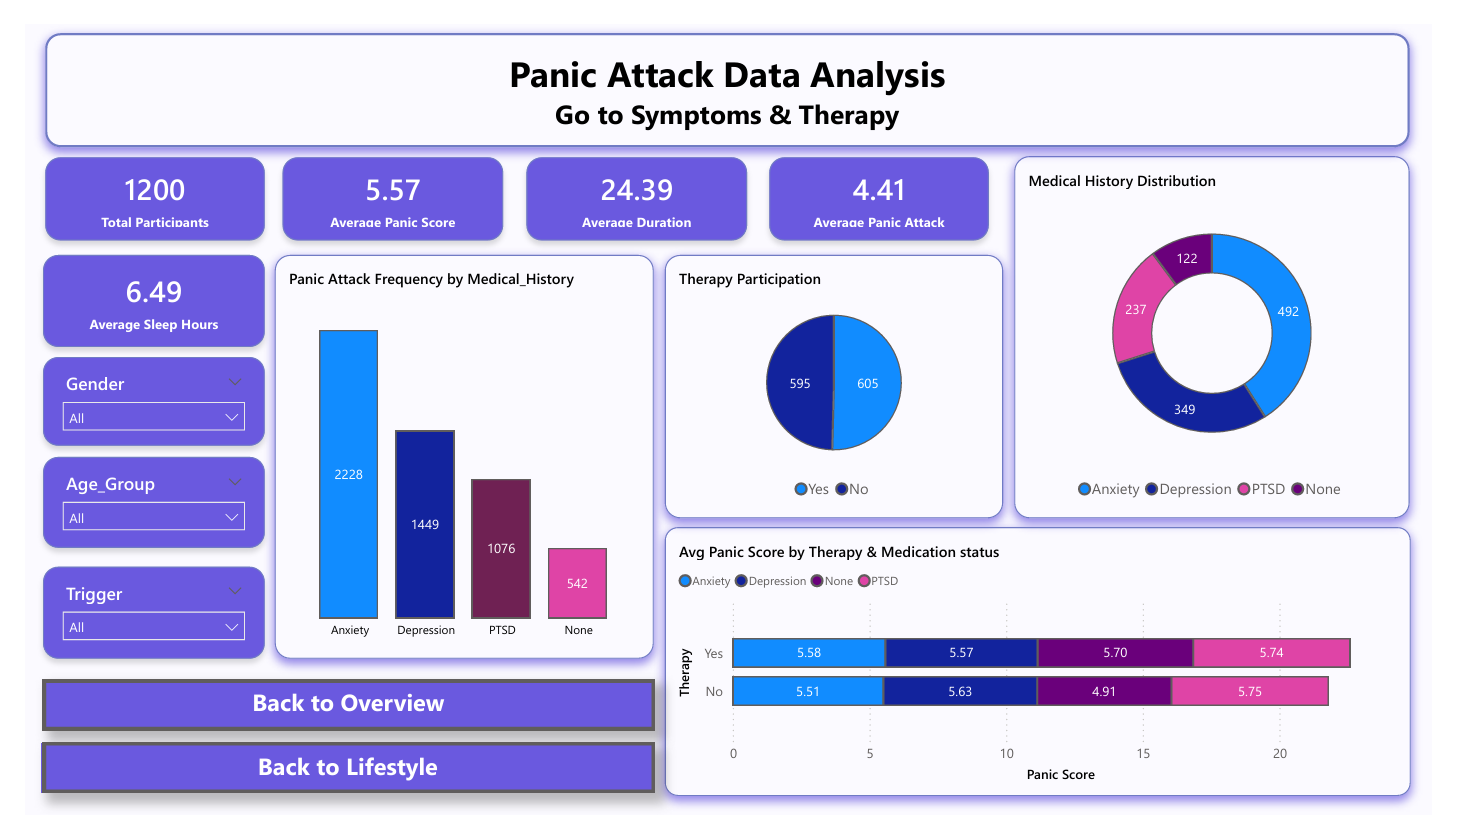

What the dashboard file says about the page in this screenshot:
{"tool":"powerbi","page":{"name":"Symptoms & Therapy","canvas":[1280,720],"ordinal":2},"visuals":[{"type":"card","fields":{"Values":["CountNonNull(panic_attack_dataset.ID)"]},"box":[17.5,120.6,200.4,76.8],"z":0},{"type":"card","fields":{"Values":["Avg(panic_attack_dataset.Panic_Score)"]},"box":[234.4,120.6,200.4,76.8],"z":1000},{"type":"card","fields":{"Values":["Avg(panic_attack_dataset.Duration_Minutes)"]},"box":[456.2,120.6,200.4,76.8],"z":2000},{"type":"pieChart","title":"Therapy Participation","fields":{"Y":["CountNonNull(panic_attack_dataset.ID)"],"Category":["panic_attack_dataset.Therapy"]},"box":[582.2,210,307.8,240],"z":3000},{"type":"clusteredColumnChart","fields":{"Y":["Sum(panic_attack_dataset.Panic_Attack_Frequency)"],"Category":["panic_attack_dataset.Medical_History"]},"box":[226.7,210,345.6,367.8],"z":4000},{"type":"slicer","fields":{"Values":["panic_attack_dataset.Trigger"]},"box":[15.6,494.4,202.2,83.3],"z":5000},{"type":"donutChart","title":"Medical History Distribution","fields":{"Y":["CountNonNull(panic_attack_dataset.ID)"],"Category":["panic_attack_dataset.Medical_History"]},"box":[900,120,360,330],"z":6000},{"type":"slicer","title":"Gender","fields":{"Values":["panic_attack_dataset.Gender"]},"box":[15.6,303.3,202.2,81.1],"z":7000},{"type":"slicer","fields":{"Values":["panic_attack_dataset.Age_Group"]},"box":[15.6,394.4,202.2,82.2],"z":8000},{"type":"barChart","title":"Avg Panic Score by Therapy & Medication status","fields":{"Y":["Avg(panic_attack_dataset.Panic_Score)"],"Category":["panic_attack_dataset.Therapy"],"Series":["panic_attack_dataset.Medical_History"]},"box":[582.2,457.8,678.9,245.6],"z":9000},{"type":"textbox","box":[15.6,596.7,556.7,46.7],"z":10000},{"type":"textbox","box":[15.3,654.7,556.7,45.3],"z":11000},{"type":"card","fields":{"Values":["Avg(panic_attack_dataset.Sleep_Hours)"]},"box":[15.6,210,202.2,84.4],"z":12000},{"type":"card","fields":{"Values":["Avg(panic_attack_dataset.Panic_Attack_Frequency)"]},"box":[677,120.6,200.4,76.8],"z":13000},{"type":"textbox","box":[18.2,8.2,1241.8,103.6],"z":14000},{"type":"actionButton","title":"Go to Lifestyle Analysis","box":[16,597,557,46],"z":15000},{"type":"actionButton","title":"Go to Lifestyle Analysis","box":[16,654,557,46],"z":16000}]}

Visuals, with their boxes in screenshot pixels (x1, y1, x2, y2), scaled from the page's 1280x720 canvas onto the 1458x839 screenshot:
card - CountNonNull(panic_attack_dataset.ID): bbox=[20, 141, 248, 230]
card - Avg(panic_attack_dataset.Panic_Score): bbox=[267, 141, 495, 230]
card - Avg(panic_attack_dataset.Duration_Minutes): bbox=[520, 141, 748, 230]
"Therapy Participation" pieChart: bbox=[663, 245, 1014, 524]
clusteredColumnChart - Sum(panic_attack_dataset.Panic_Attack_Frequency) x panic_attack_dataset.Medical_History: bbox=[258, 245, 652, 673]
slicer - panic_attack_dataset.Trigger: bbox=[18, 576, 248, 673]
"Medical History Distribution" donutChart: bbox=[1025, 140, 1435, 524]
"Gender" slicer: bbox=[18, 353, 248, 448]
slicer - panic_attack_dataset.Age_Group: bbox=[18, 460, 248, 555]
"Avg Panic Score by Therapy & Medication status" barChart: bbox=[663, 533, 1436, 820]
textbox: bbox=[18, 695, 652, 750]
textbox: bbox=[17, 763, 652, 816]
card - Avg(panic_attack_dataset.Sleep_Hours): bbox=[18, 245, 248, 343]
card - Avg(panic_attack_dataset.Panic_Attack_Frequency): bbox=[771, 141, 999, 230]
textbox: bbox=[21, 10, 1435, 130]
"Go to Lifestyle Analysis" actionButton: bbox=[18, 696, 653, 749]
"Go to Lifestyle Analysis" actionButton: bbox=[18, 762, 653, 816]
